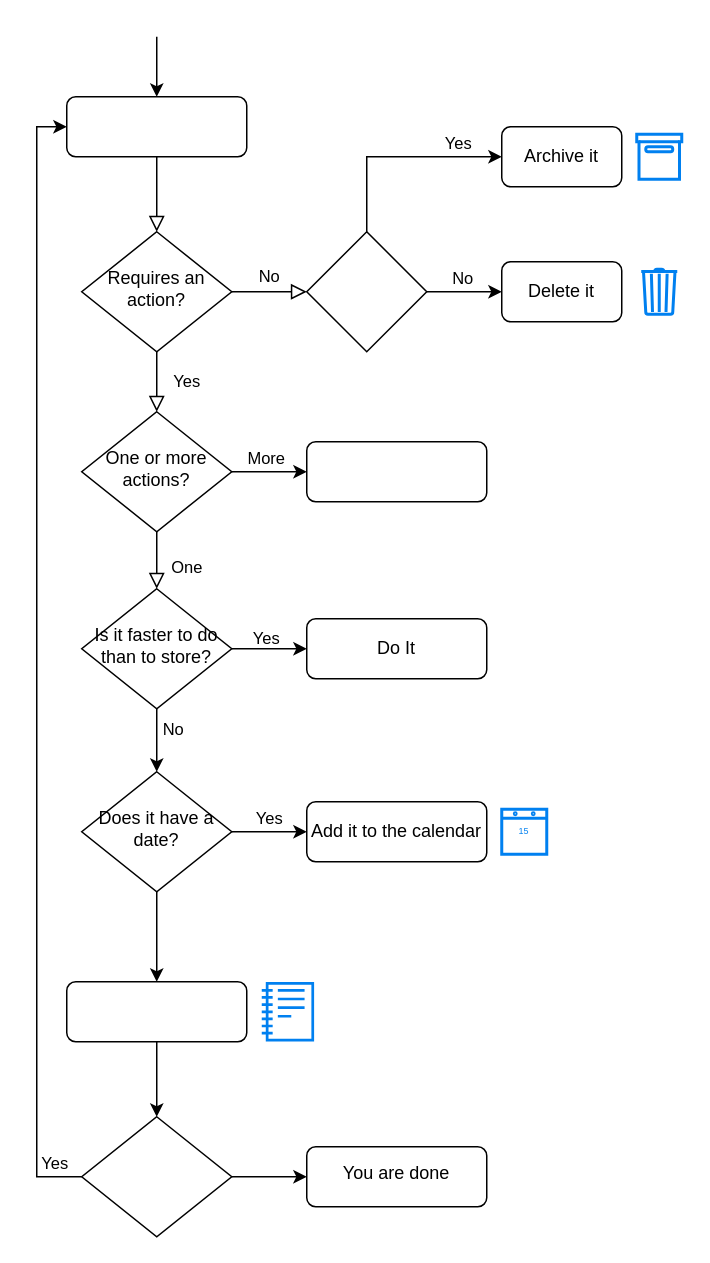
The diagram is 710 pixels wide and 1263 high, and some of its shapes have lost their labels. The shapes that lost their labels are listed below. From the top down, each one's centre as x and y in pixels, then its label:
At (156,126): "Next Item".
At (366,291): "Is it userful?".
At (396,471): "Create a Project".
At (156,1011): "Add it to your task list".
At (156,1176): "Are there more items?".
